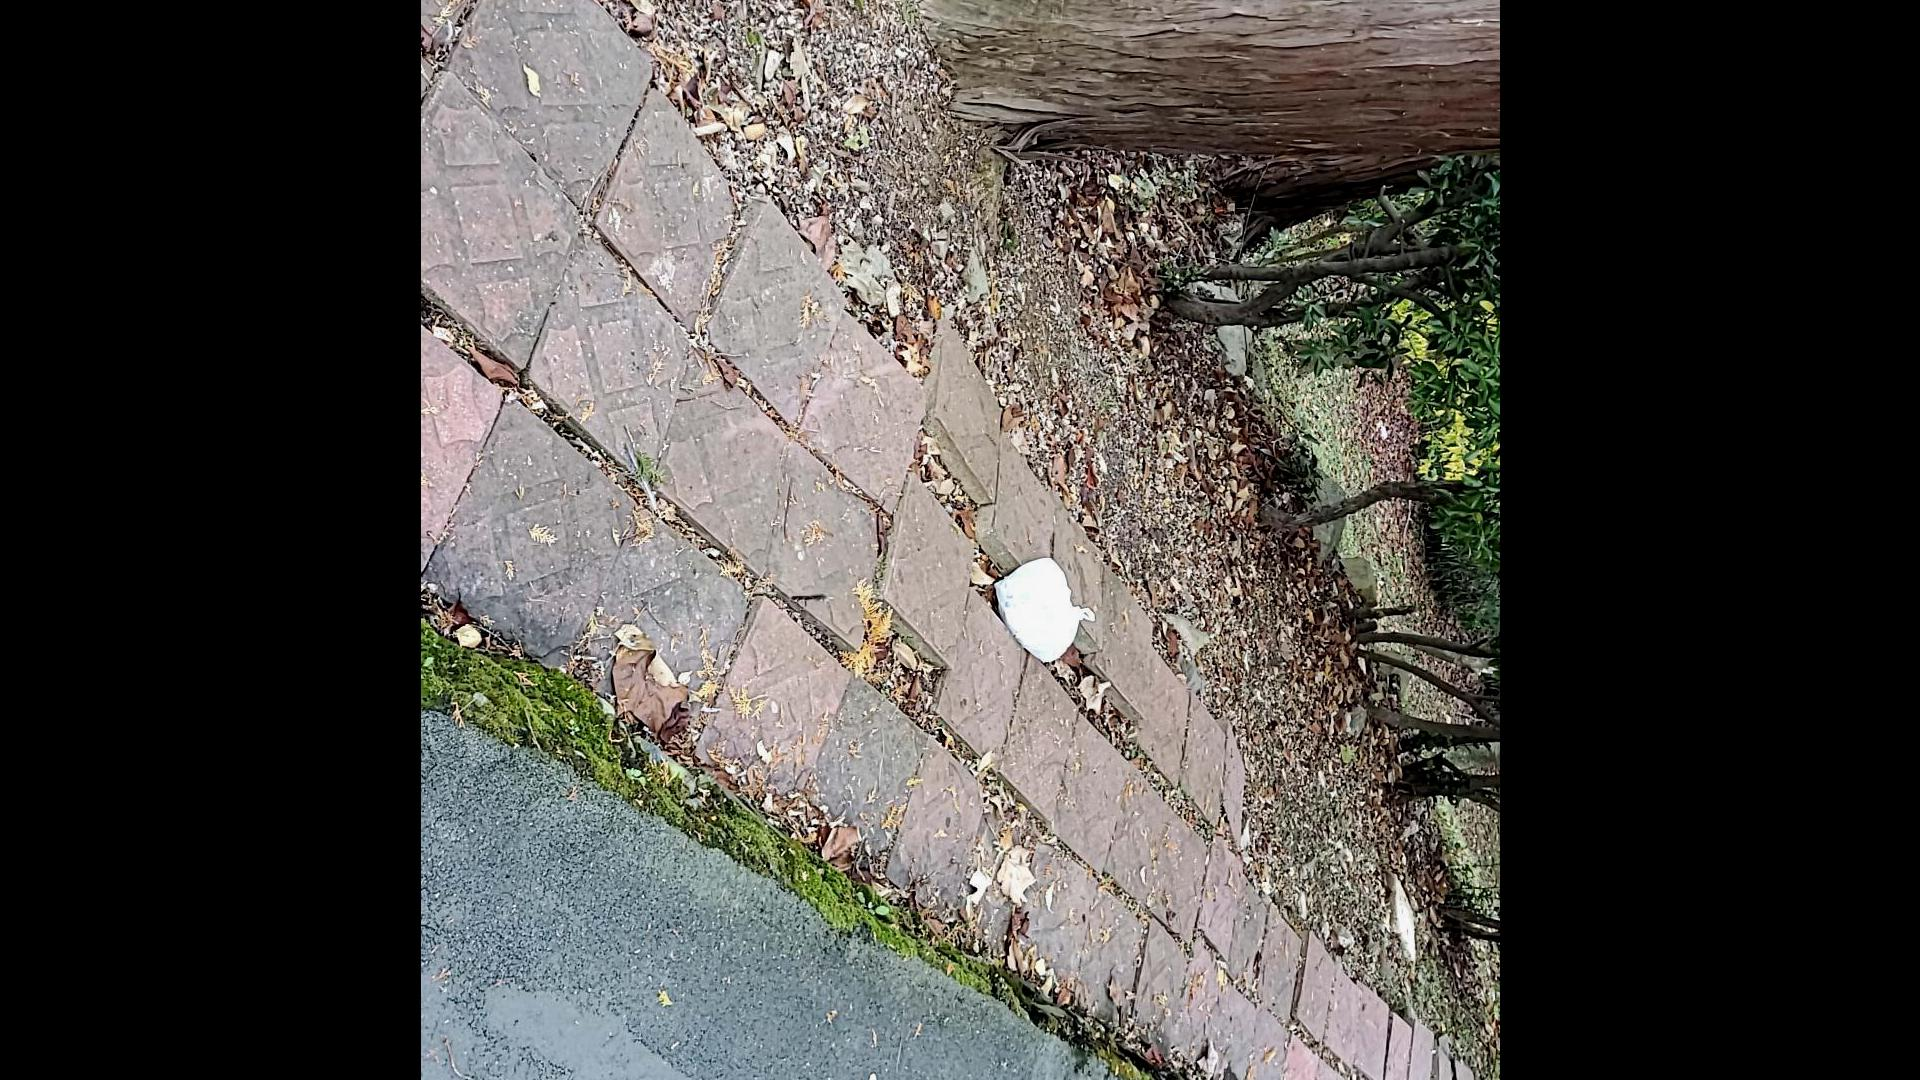white_bag: (992, 538, 1098, 665)
